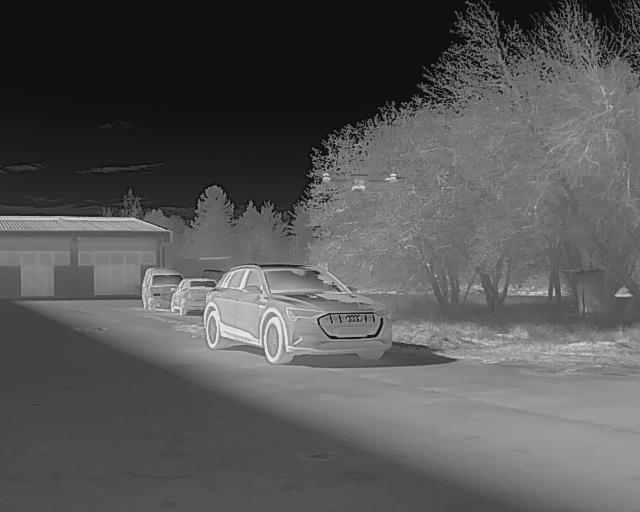drone: (306, 158, 412, 206)
